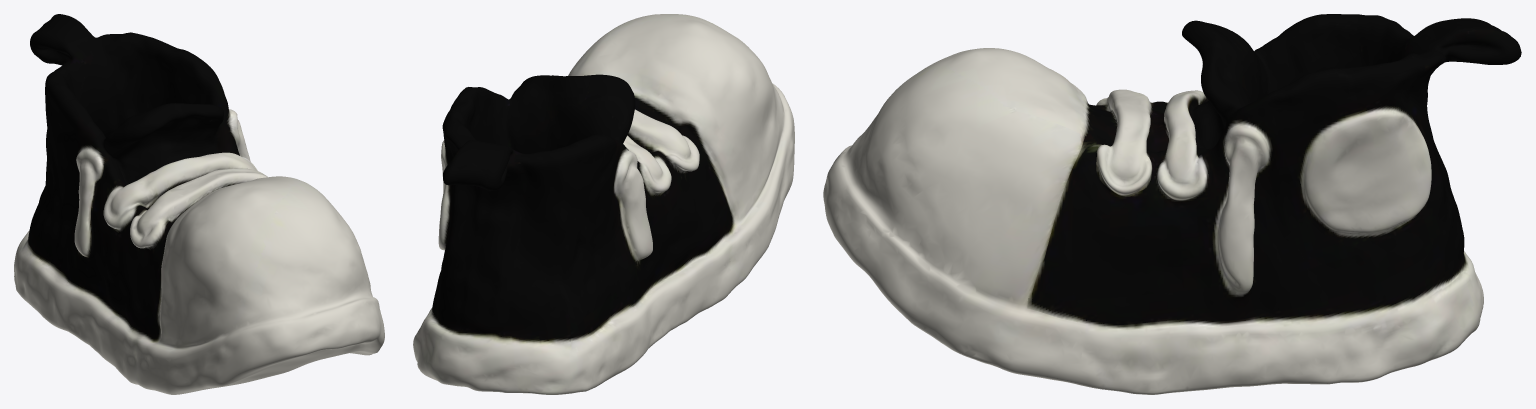
Rendered from black-claymation-shoe.glb.
The picture shows the model from 3 angles, left to right: view 1: azimuth 30°, elevation 25°; view 2: azimuth 150°, elevation 25°; view 3: azimuth 270°, elevation 25°; orthographic projection. The views are drawn at different scales.
Visible parts, largest first — view 1: clayshoe 5; view 2: clayshoe 5; view 3: clayshoe 5.
Boxes of the visible parts, x1,y1,x2,y2 form: clayshoe 5: (14, 14, 384, 394); clayshoe 5: (413, 14, 794, 394); clayshoe 5: (823, 14, 1521, 394).
Size of the model in its own units: 32.56 by 37.39 by 77.15.
1 material, 1 textured.
